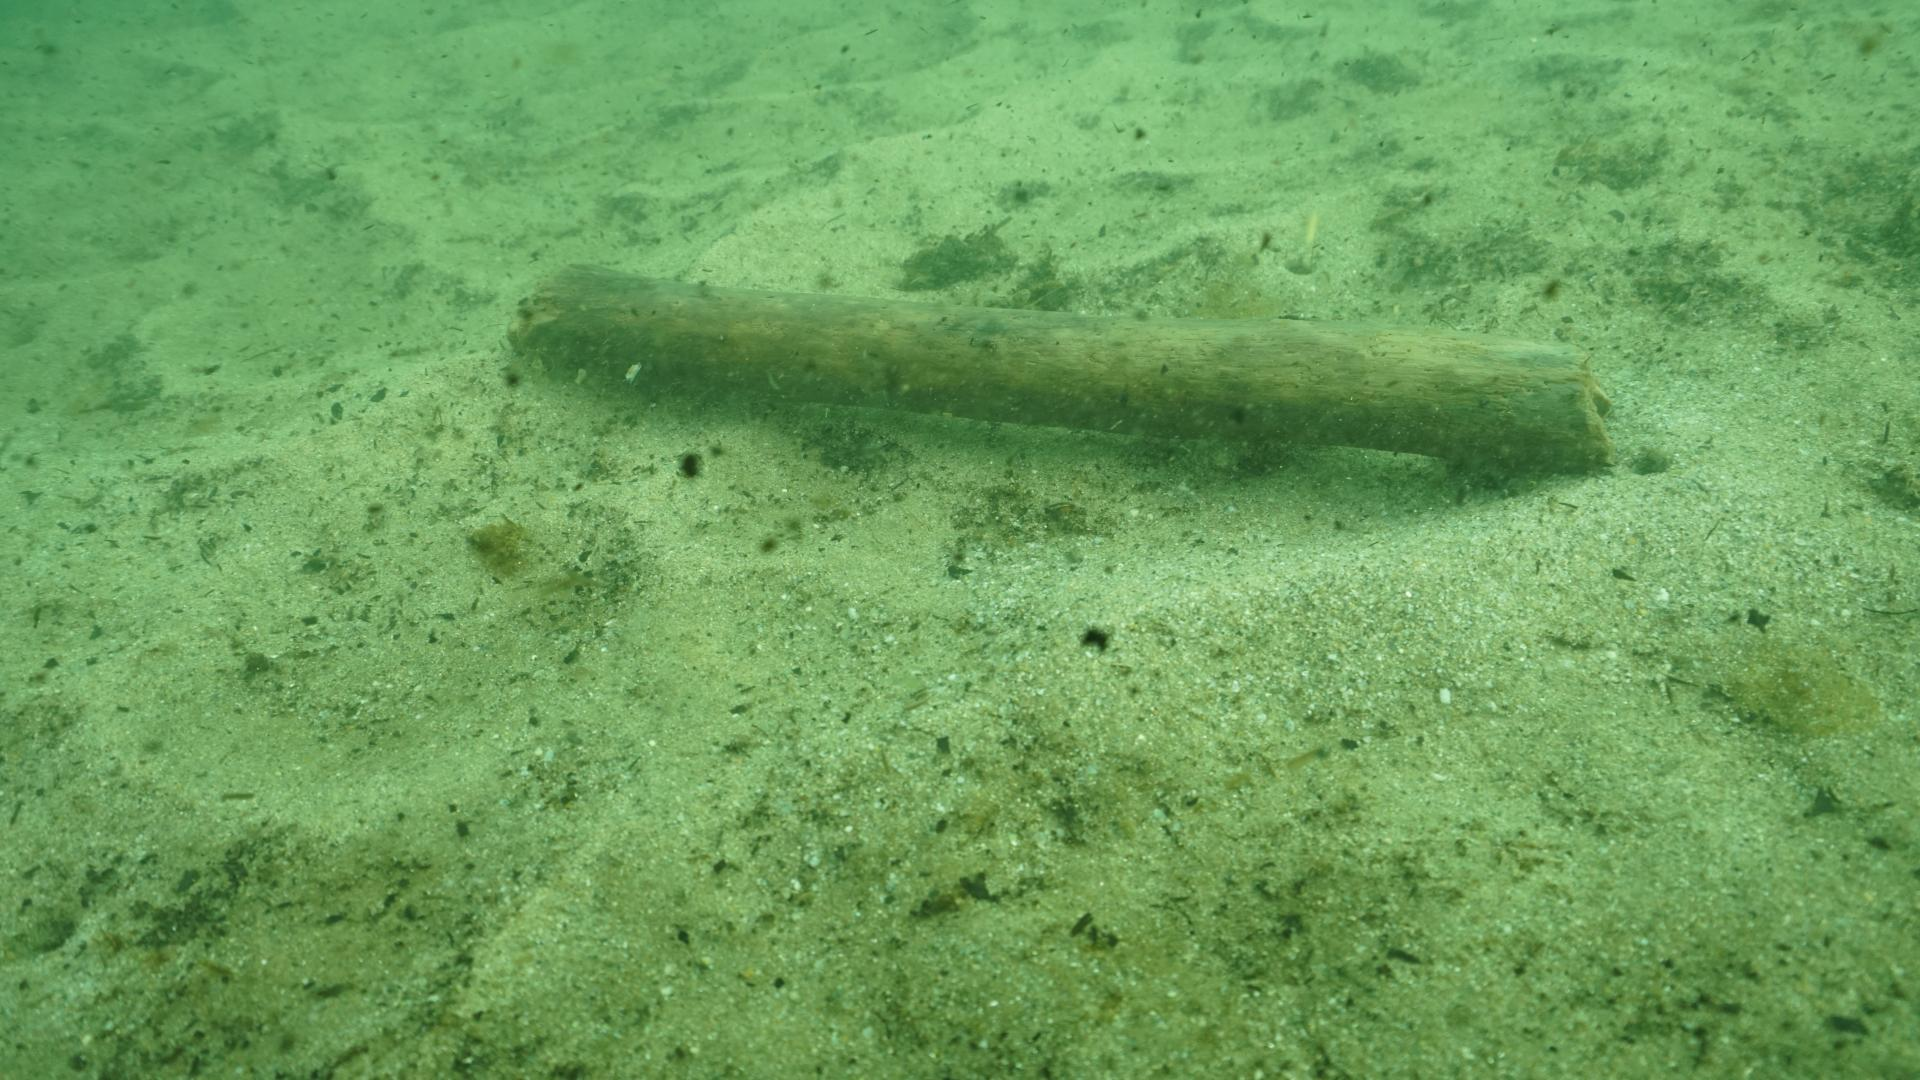wood: (506, 255, 1610, 471)
